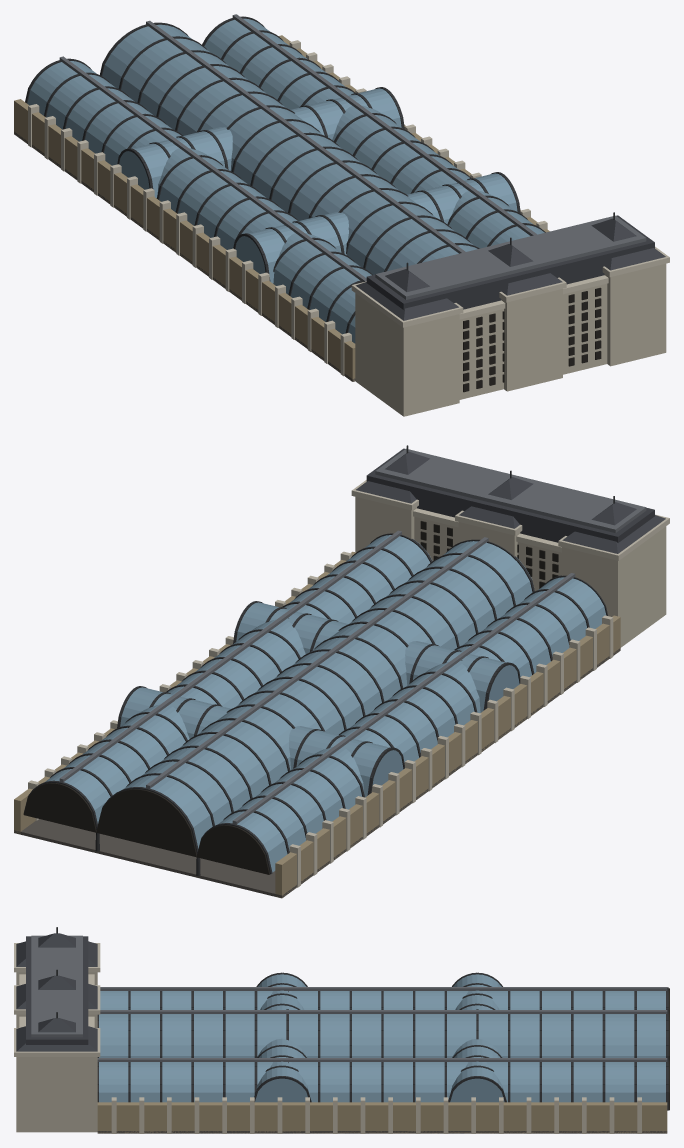
File: paddington_station.glb
3 renders of one model, top to bottom at view 1: azimuth 30°, elevation 25°; view 2: azimuth 150°, elevation 25°; view 3: azimuth 270°, elevation 25°, orthographic. The views are drawn at different scales.
Visible parts, largest first — view 1: paddington_station; view 2: paddington_station; view 3: paddington_station.
Part boxes in pixels (x1,y1,x2,y2): paddington_station: [14, 14, 669, 416]; paddington_station: [14, 445, 669, 898]; paddington_station: [14, 927, 669, 1133].
Bounding box in the file's own units: 96.6 × 44.2 × 242.
